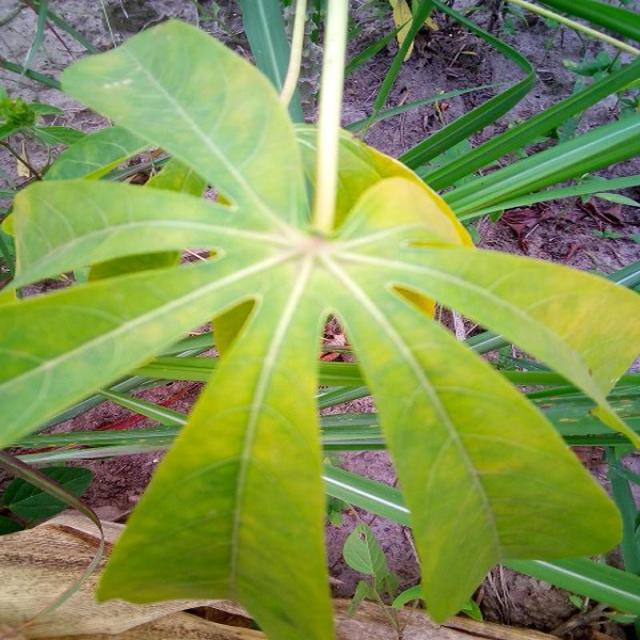cassava leaf: (2, 16, 638, 637)
